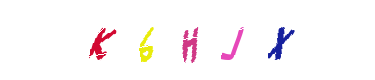6: (106, 0, 186, 80)
H: (147, 0, 227, 80)
J: (163, 0, 243, 80)
K: (60, 0, 140, 80)
X: (240, 0, 320, 80)
